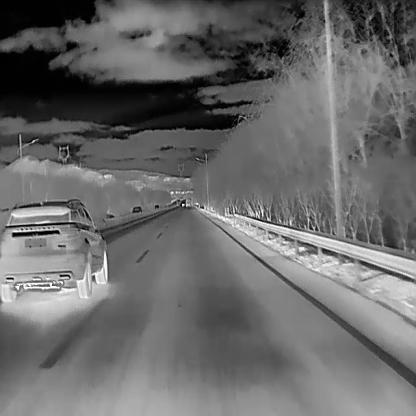bus: (186, 197, 190, 209)
car: (0, 197, 110, 303), (130, 204, 142, 214), (154, 202, 160, 210), (180, 202, 184, 208)
